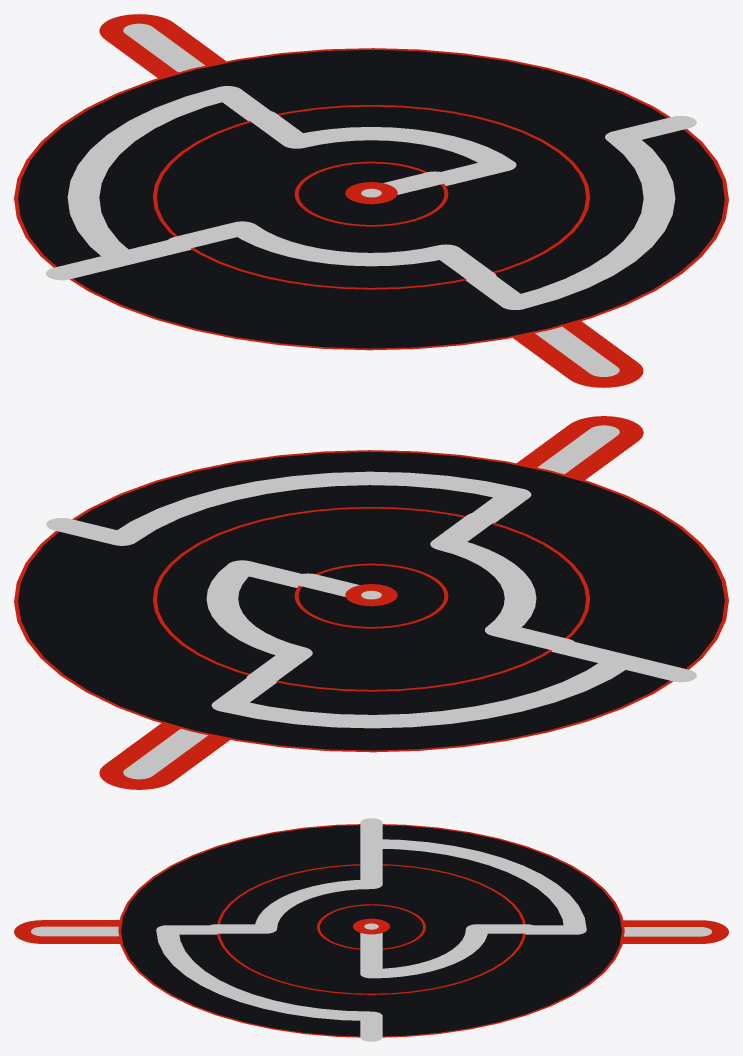
File: 3Level.fbx
The picture shows the model from 3 angles, top to bottom: view 1: azimuth 30°, elevation 25°; view 2: azimuth 150°, elevation 25°; view 3: azimuth 270°, elevation 25°; orthographic projection. The views are drawn at different scales.
Visible parts, largest first — view 1: Ring3, Ring2, Bg, Ring1; view 2: Ring3, Ring2, Bg, Ring1; view 3: Ring3, Ring2, Bg, Ring1.
Boxes of the visible parts, x1=… form: Ring3: x1=14, y1=48, x2=728, y2=350; Ring2: x1=153, y1=105, x2=589, y2=289; Bg: x1=99, y1=14, x2=643, y2=387; Ring1: x1=294, y1=161, x2=450, y2=226; Ring3: x1=14, y1=450, x2=728, y2=752; Ring2: x1=153, y1=507, x2=589, y2=691; Bg: x1=99, y1=416, x2=643, y2=789; Ring1: x1=292, y1=563, x2=448, y2=628; Ring3: x1=118, y1=818, x2=624, y2=1041; Ring2: x1=205, y1=858, x2=537, y2=994; Bg: x1=14, y1=920, x2=728, y2=943; Ring1: x1=317, y1=904, x2=425, y2=953.
Size of the model in its own units: 2.09 by 0.0243 by 2.82.
